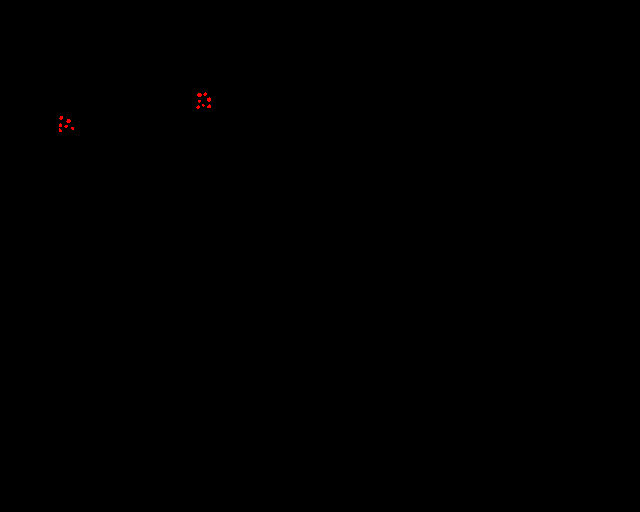Target: (197, 93, 202, 97), (207, 97, 211, 102), (66, 119, 71, 123), (203, 92, 207, 96), (207, 104, 211, 108), (196, 105, 200, 109), (59, 116, 63, 120), (59, 123, 62, 127), (64, 125, 68, 128), (59, 128, 62, 132), (198, 100, 201, 103), (202, 104, 205, 107), (71, 127, 74, 130)
